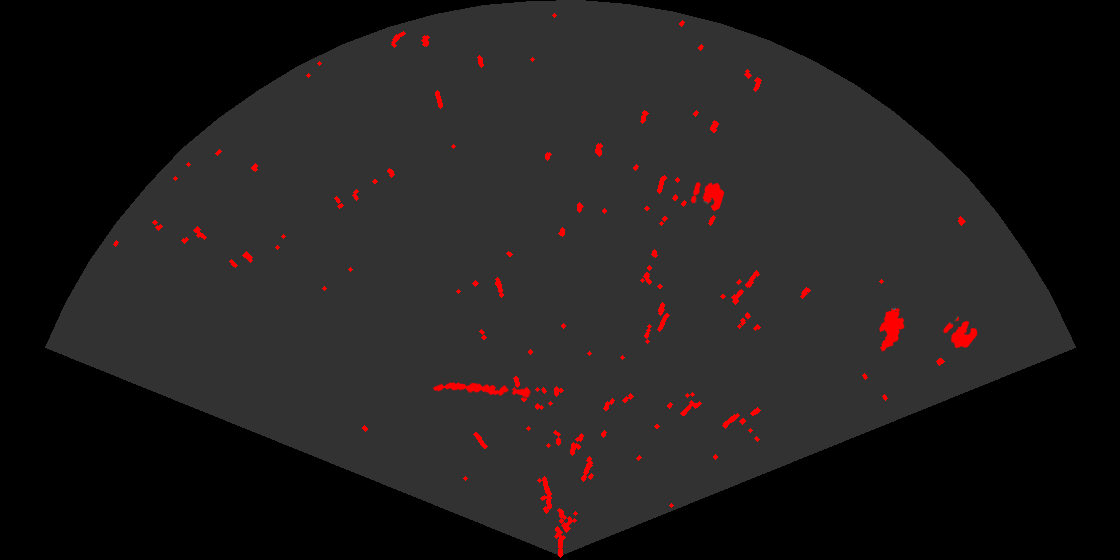AUV: (878, 307, 906, 353)
ball: (942, 315, 979, 350), (689, 180, 726, 213)
chain: (431, 380, 533, 399)
